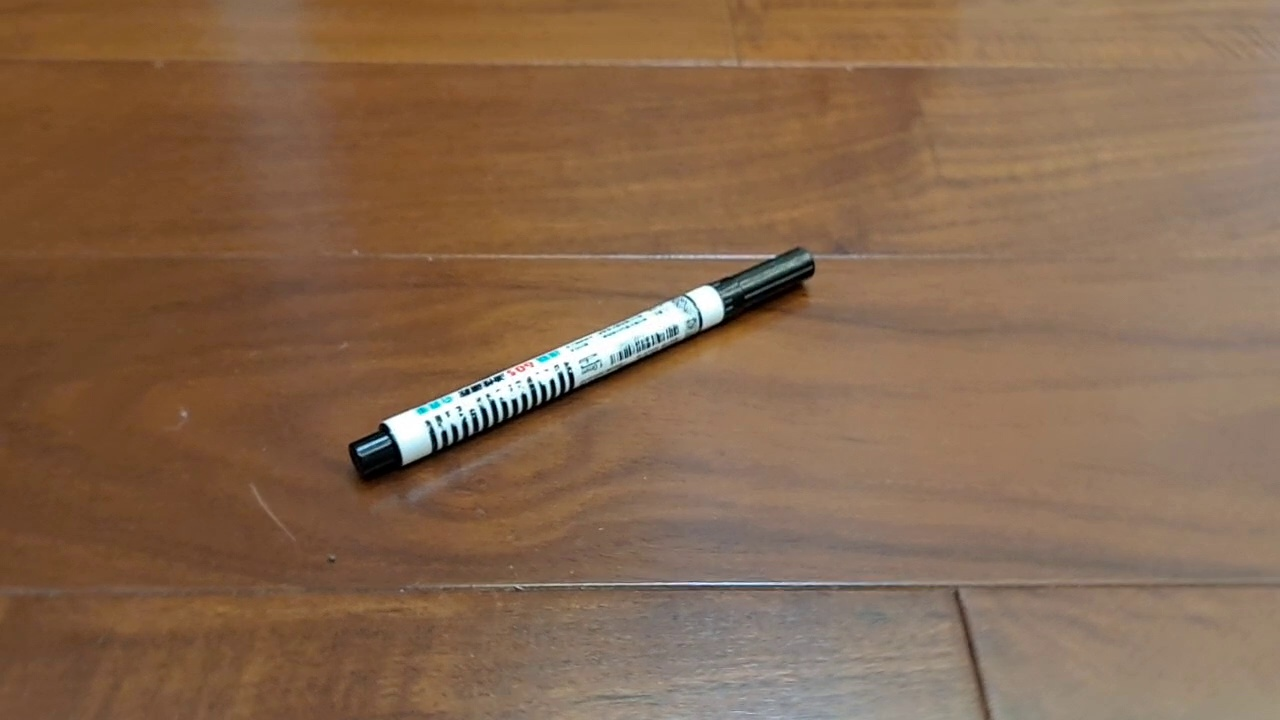pen: (348, 246, 816, 482)
